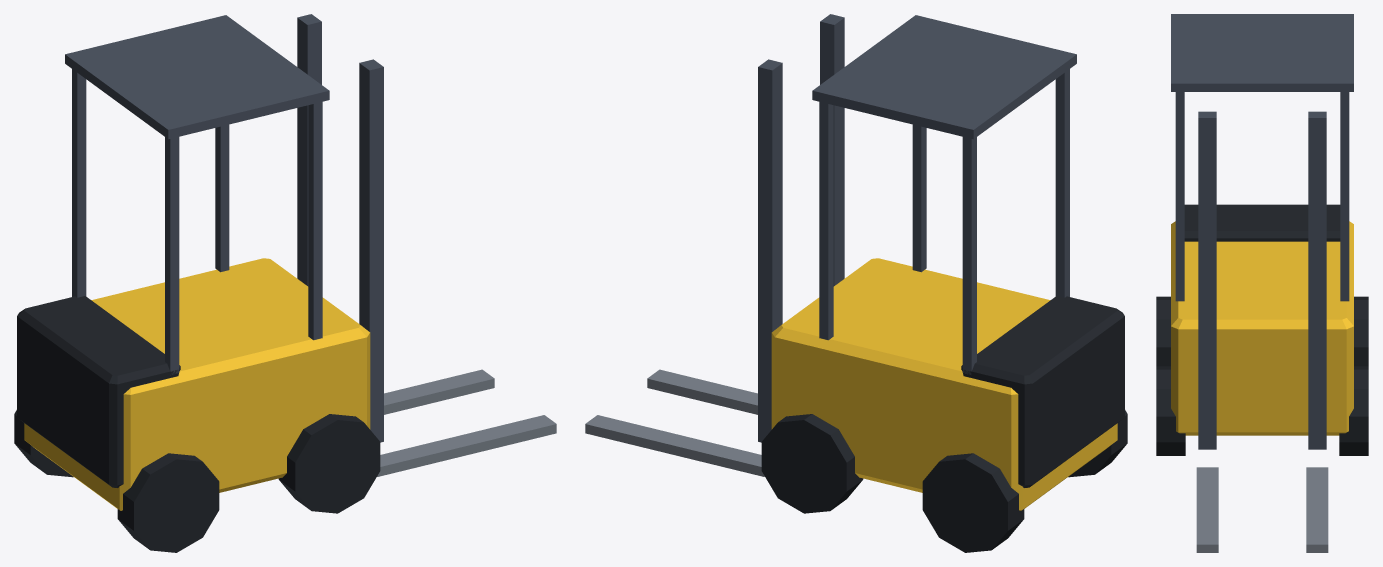
The model's file is forklift.glb.
3 views of the same model, side by side, from view 1: azimuth 30°, elevation 25°; view 2: azimuth 150°, elevation 25°; view 3: azimuth 270°, elevation 25° (orthographic). The views are drawn at different scales.
Parts seen in each view (by area): view 1: forklift; view 2: forklift; view 3: forklift.
Part boxes in pixels (x1,y1,x2,y2): forklift: (14,14,556,552); forklift: (585,14,1127,552); forklift: (1156,14,1368,552).
Size of the model in its own units: 2.55 by 2.22 by 1.16.
